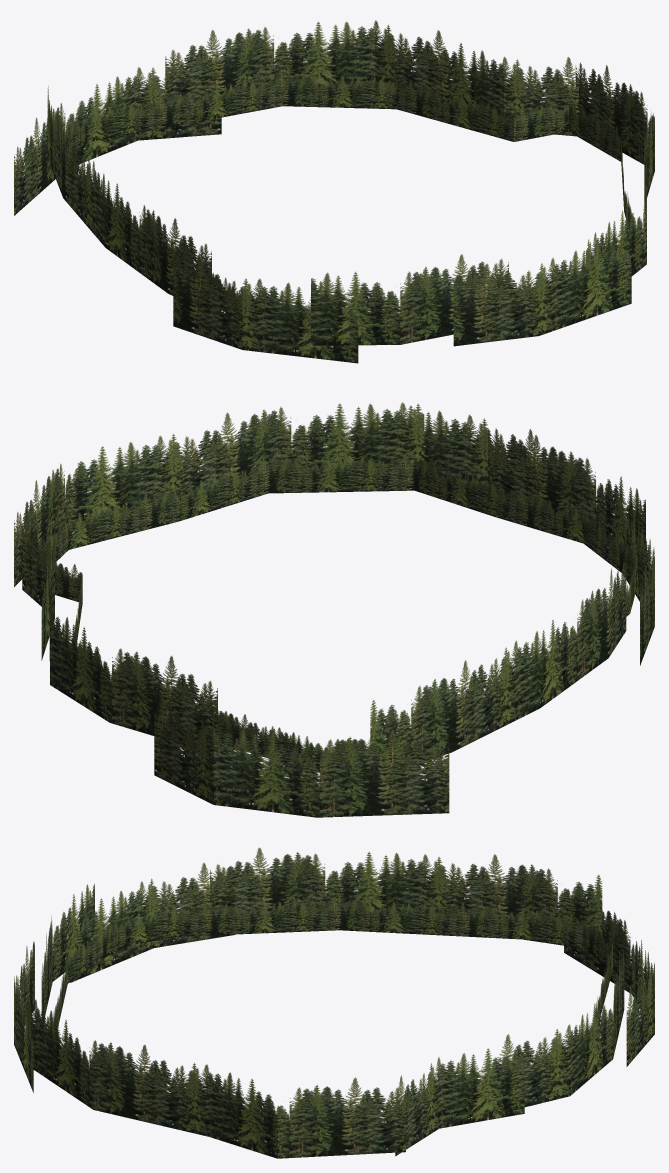
3 views of the same model, one above another, from view 1: azimuth 30°, elevation 25°; view 2: azimuth 150°, elevation 25°; view 3: azimuth 270°, elevation 25° (orthographic). The views are drawn at different scales.
Visible parts, largest first — view 1: globaltrees_atlas_arboles_0; view 2: globaltrees_atlas_arboles_0; view 3: globaltrees_atlas_arboles_0.
Part boxes in pixels (bbox=[...]): globaltrees_atlas_arboles_0: bbox=[14, 20, 654, 363]; globaltrees_atlas_arboles_0: bbox=[14, 402, 654, 817]; globaltrees_atlas_arboles_0: bbox=[14, 847, 654, 1158].
Bounding box in the file's own units: 184 × 38.7 × 207.
Materials: 1 (1 with a texture image).
